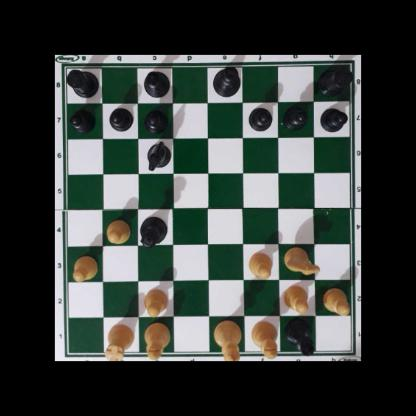black-bishop: (285, 318, 315, 358), (141, 70, 171, 98)
black-king: (212, 66, 240, 98)
black-knight: (145, 140, 171, 170)
black-pawn: (320, 106, 346, 132), (248, 105, 272, 130), (70, 108, 95, 131), (284, 104, 307, 129), (109, 106, 131, 131), (145, 107, 167, 132)
black-queen: (139, 215, 168, 247)
black-rook: (64, 66, 98, 98), (318, 63, 351, 95)
white-bishop: (142, 322, 172, 361), (250, 321, 279, 360)
white-king: (213, 320, 242, 361)
white-knight: (285, 246, 320, 276)
white-pawn: (282, 284, 309, 313), (322, 287, 349, 314), (71, 254, 98, 281), (142, 287, 167, 316), (248, 251, 272, 279), (105, 218, 131, 243)
white-rook: (103, 322, 134, 361)
